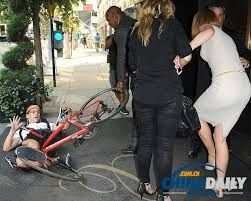falling: (0, 98, 69, 172)
